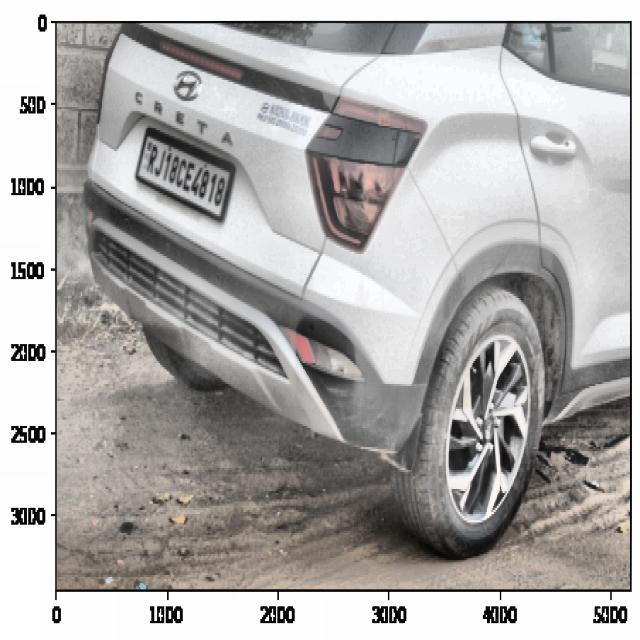license_plate: (142, 142, 227, 211)
